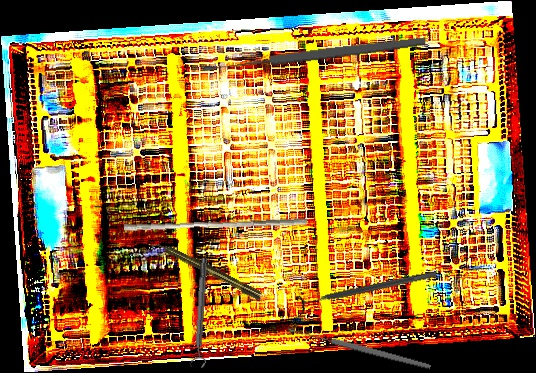Fixation Ring: (295, 263, 439, 317), (188, 257, 214, 369)
Handpiece: (151, 237, 264, 302)
Pusher: (123, 210, 308, 238)
Surgical Spoon: (201, 34, 428, 75), (288, 325, 432, 371)
